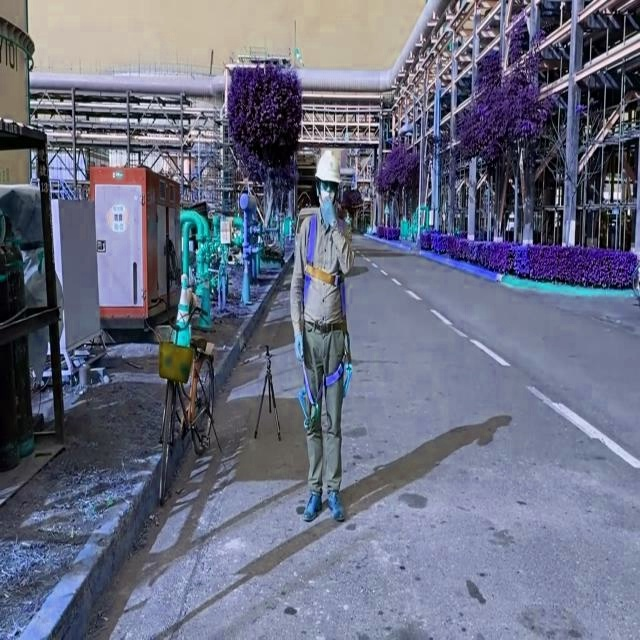safety belt: (297, 220, 363, 412)
